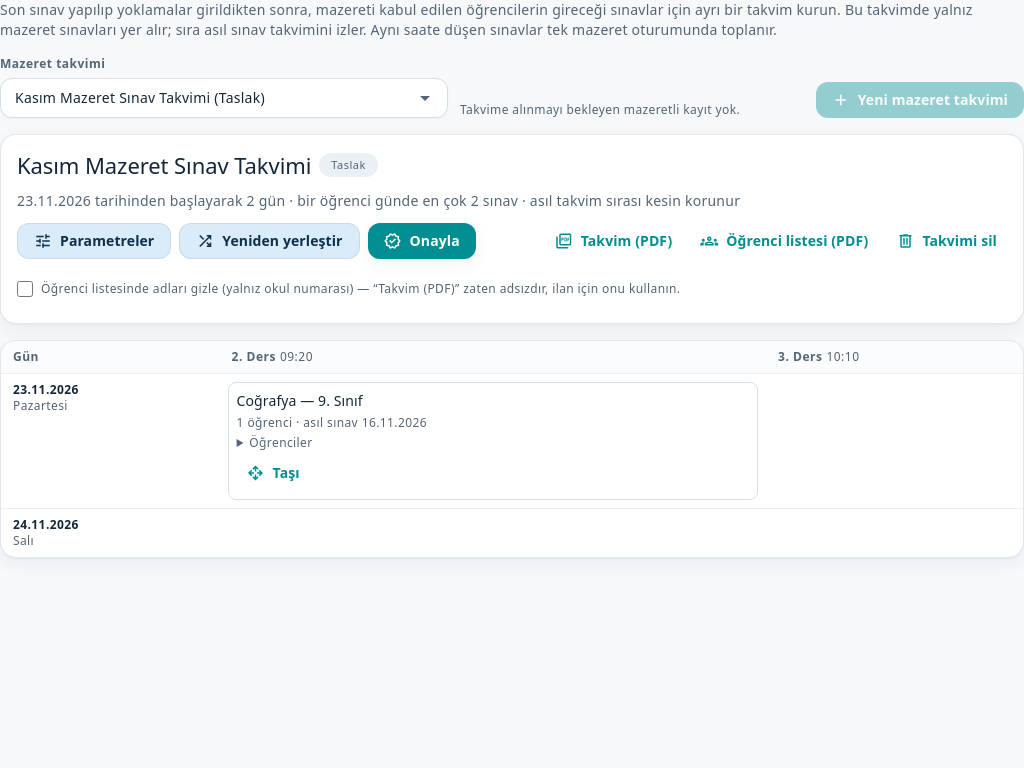
MazeretTakvimi › sınav elle taşınır; taşımanın uyarıları ekranda kalır
Click the button with aria-label "Coğrafya — 9. Sınıf sınavını taşı": (273, 473) [237, 455, 310, 491]
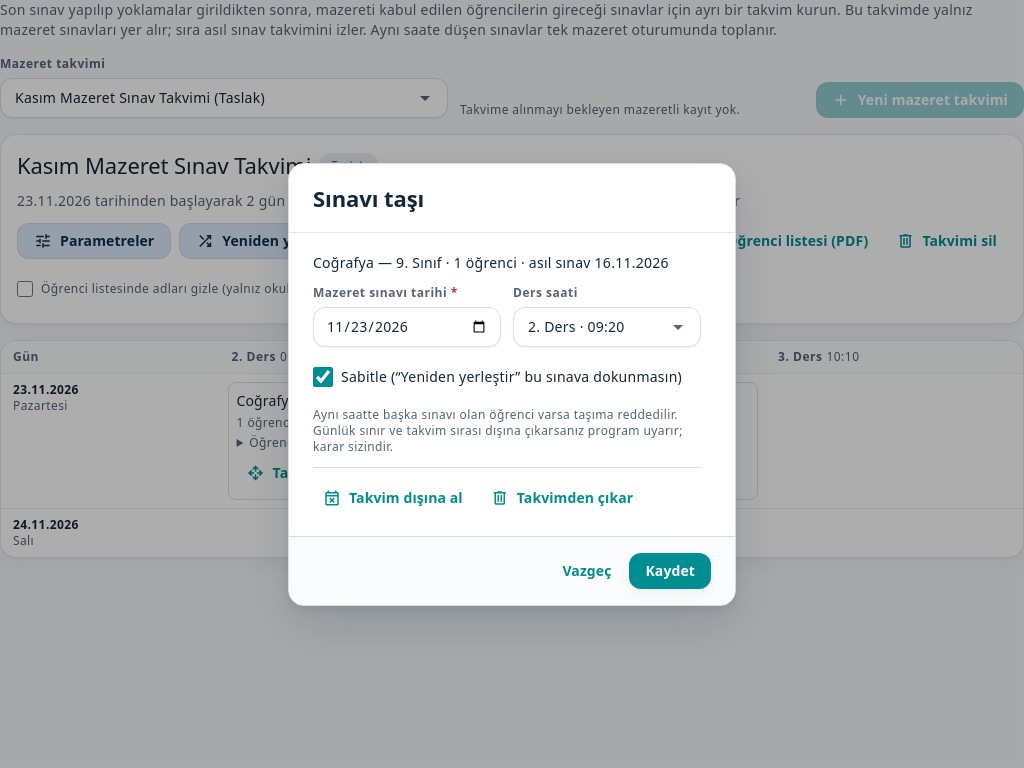
In the date field labelled "Mazeret sınavı tarihi *": (407, 326) [326, 316, 488, 338], type "2026-11-24"
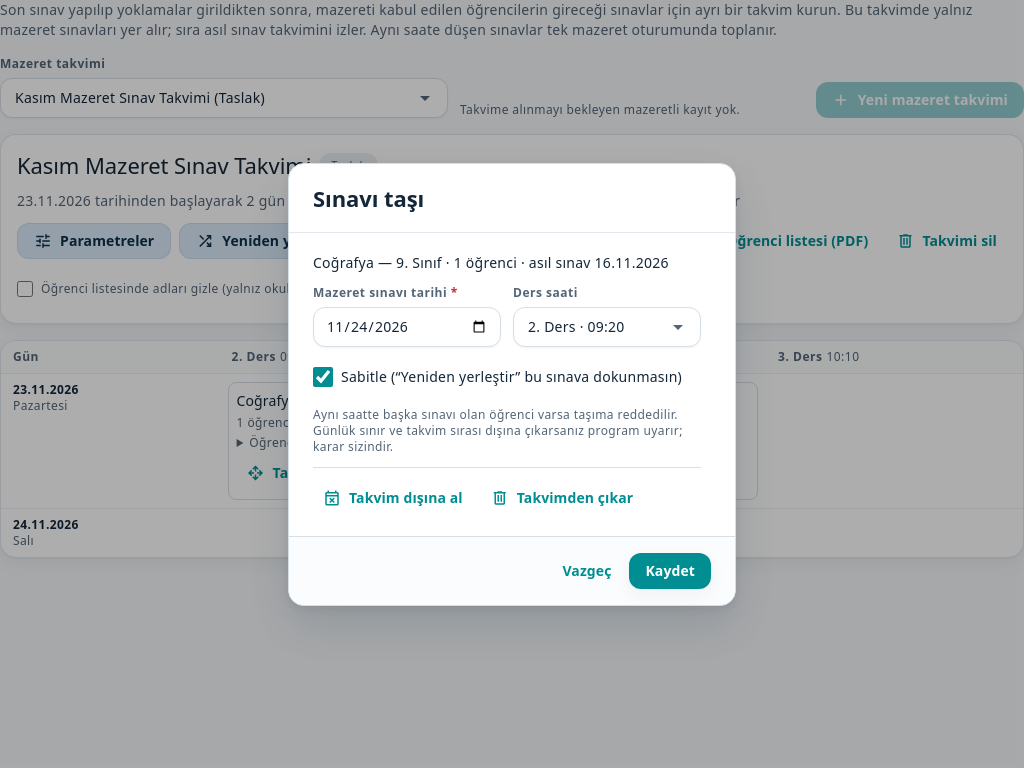
Select "3. Ders · 10:10" in the dropdown labelled "Ders saati": (595, 326) [524, 316, 666, 336]
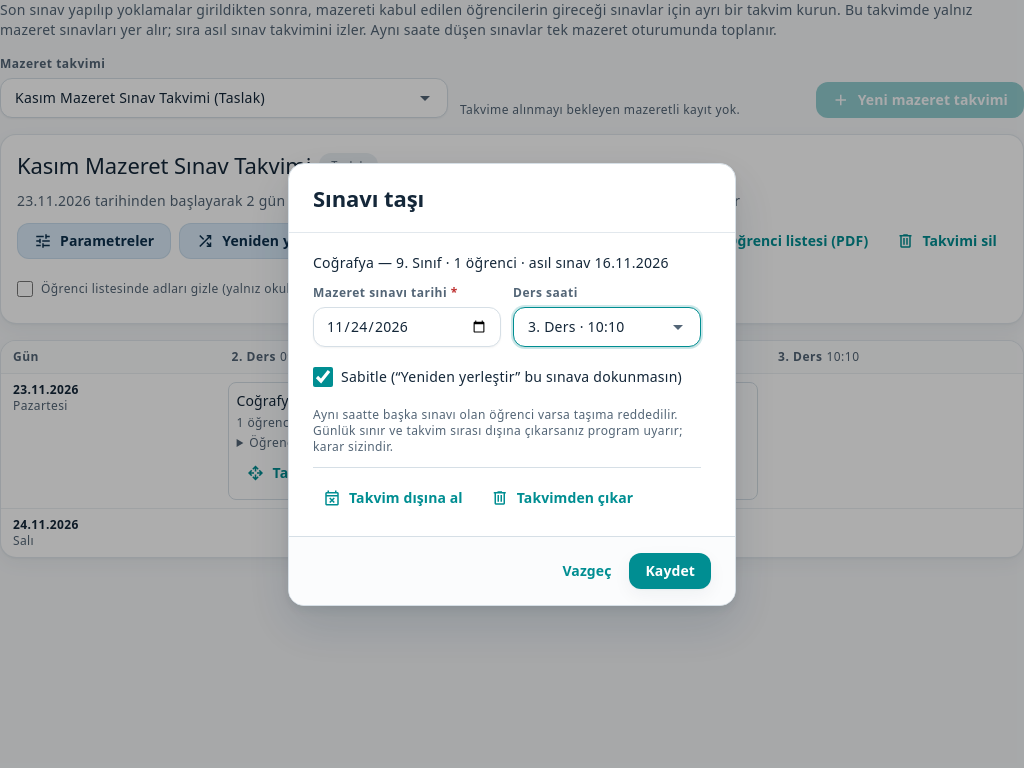
Click the button "Kaydet": (670, 570) [630, 552, 711, 588]
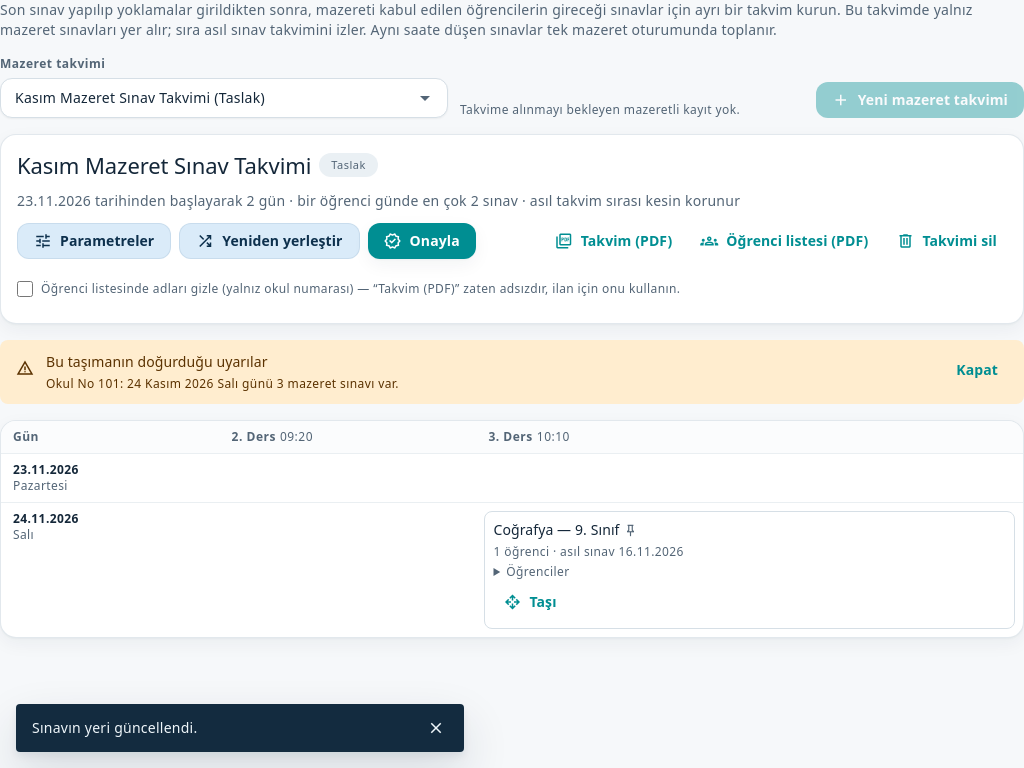
Expected: the message "Bu taşımanın doğurduğu uyarılar" shows "3 mazeret sınavı var", [46, 375, 399, 392]
Expected: the picture named "Sabit" is shown, [624, 520, 638, 540]
